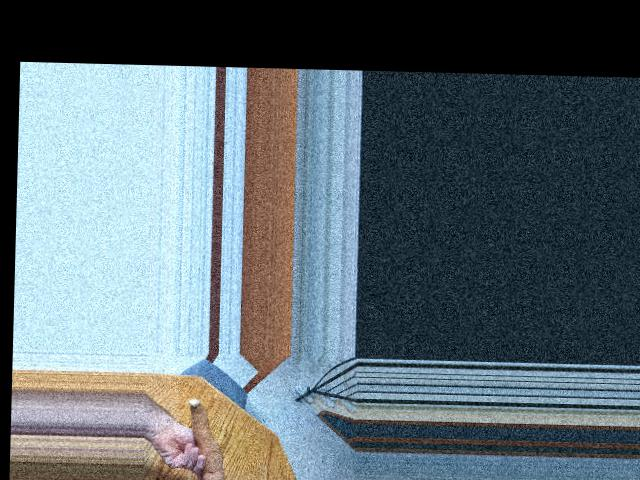sweet_potato: (185, 397, 230, 480)
